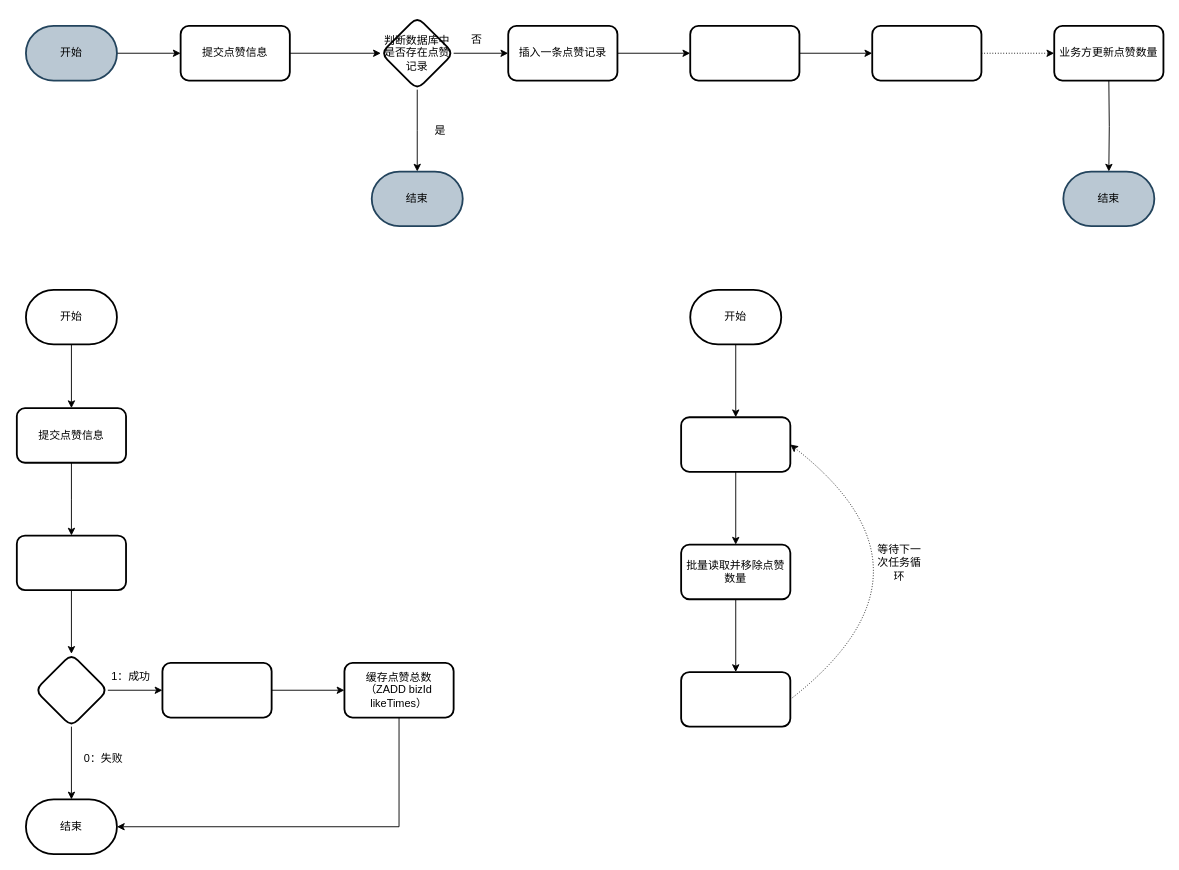
The diagram is 1179 pixels wide and 870 high, and some of its shapes have lost their labels. Each missing label, with the centre of its shape:
"MQ通知业务方更新点赞数" belongs at (x=735, y=699).
"判断返回值" belongs at (x=71, y=689).
"添加点赞信息 （SADD bizId uid）" belongs at (x=70, y=562).
"统计点赞总数" belongs at (x=744, y=53).
"统计点赞数量 （SCARD bizId）" belongs at (x=216, y=690).
"选择业务类型" belongs at (x=735, y=444).
"通知业务方更新点赞数" belongs at (x=926, y=53).
